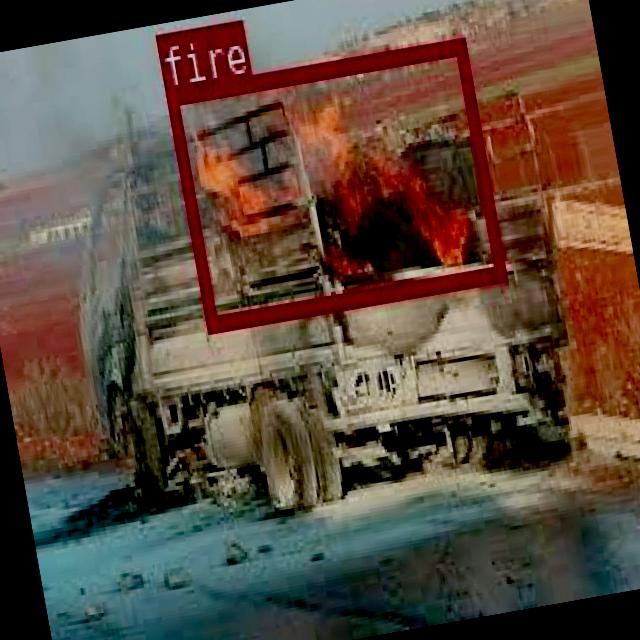fire: (163, 36, 505, 330)
